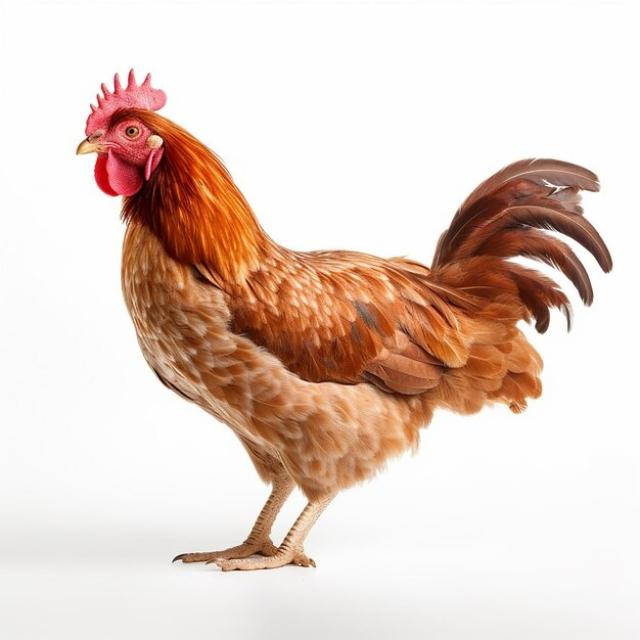Chicken: (73, 67, 614, 573)
